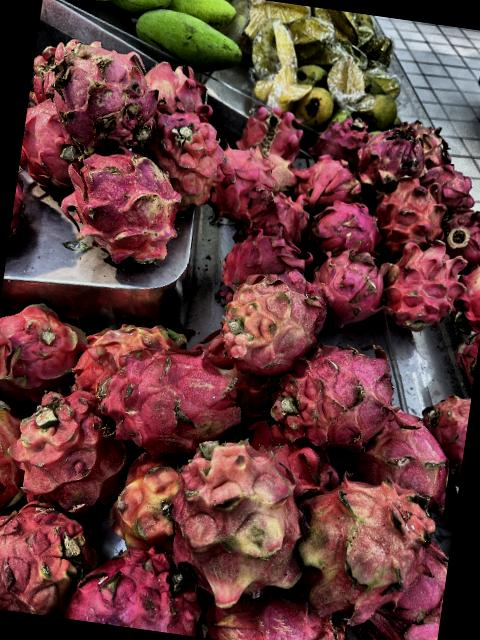buah-naga-belum-matang: (157, 428, 312, 606), (286, 458, 441, 621), (57, 150, 187, 275), (11, 390, 132, 506), (213, 256, 324, 370), (0, 488, 88, 619), (102, 450, 189, 554), (83, 308, 187, 378), (0, 398, 32, 519), (453, 251, 480, 329)
buah-naga-matang: (111, 339, 236, 452), (342, 396, 466, 509), (74, 540, 210, 638), (272, 340, 394, 445), (50, 34, 154, 140), (366, 520, 452, 640), (138, 110, 231, 211), (212, 585, 371, 640), (382, 234, 461, 340), (212, 214, 311, 290), (0, 295, 80, 388), (372, 172, 454, 256), (314, 252, 390, 329), (210, 137, 280, 220), (20, 98, 85, 180), (229, 90, 304, 160), (312, 107, 378, 173), (306, 190, 378, 250), (140, 54, 214, 110), (244, 179, 305, 246), (357, 120, 421, 180), (292, 146, 358, 202), (420, 385, 472, 452), (439, 209, 480, 265), (30, 42, 72, 96)
